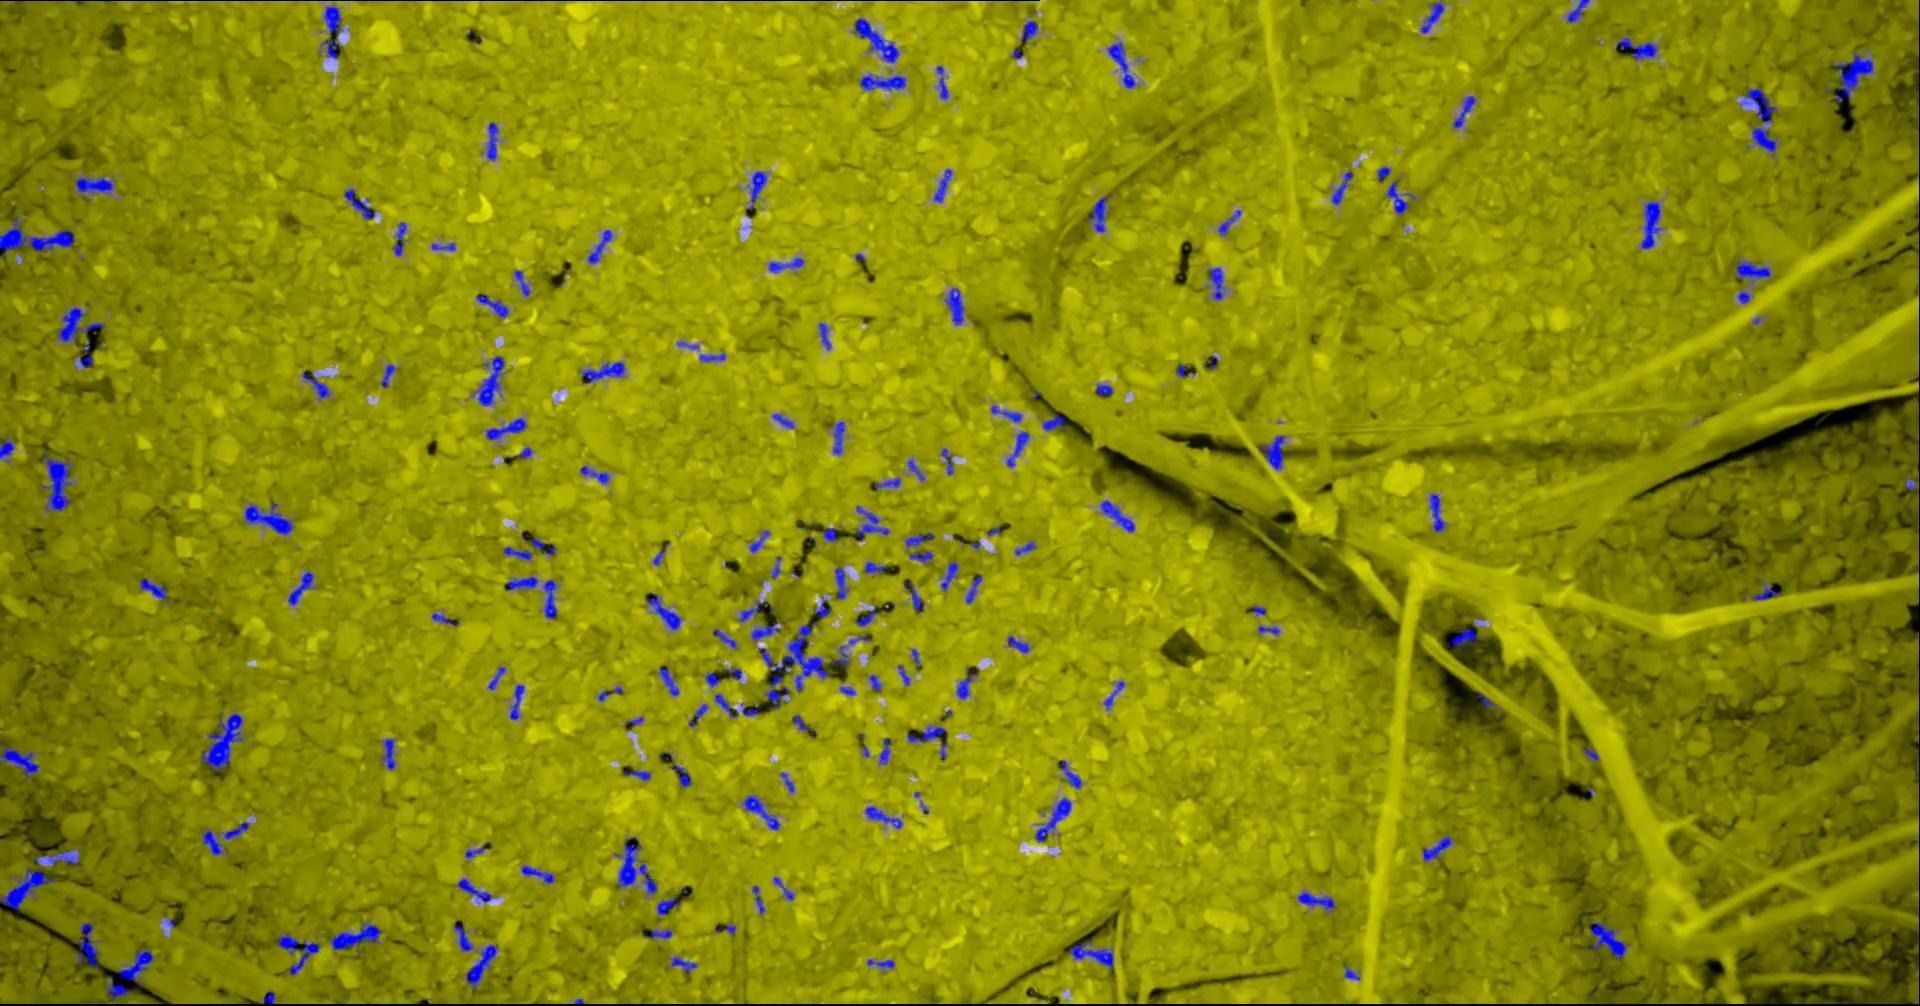ant: (0, 217, 74, 257), (0, 866, 57, 909), (615, 837, 657, 894), (39, 447, 72, 511), (852, 17, 898, 62), (1832, 52, 1873, 102), (57, 306, 104, 343), (278, 934, 319, 976), (1034, 796, 1070, 842), (472, 354, 504, 405), (243, 502, 293, 533), (1589, 921, 1627, 959), (465, 944, 497, 989), (905, 725, 947, 758), (1106, 41, 1135, 88), (1738, 86, 1777, 122), (645, 592, 681, 629), (0, 746, 39, 779), (329, 923, 380, 949), (1070, 939, 1112, 969), (743, 795, 778, 829), (855, 506, 889, 540), (117, 950, 152, 983), (1098, 500, 1134, 531), (74, 922, 98, 967), (1641, 199, 1661, 249), (323, 6, 342, 58), (343, 188, 375, 218), (582, 361, 623, 384), (1257, 434, 1285, 469), (485, 417, 526, 439), (1004, 431, 1029, 467), (1615, 37, 1656, 58), (587, 229, 612, 263), (287, 570, 312, 605), (1418, 0, 1444, 33), (863, 807, 902, 828), (745, 170, 766, 210), (764, 674, 789, 708), (457, 878, 491, 901), (302, 370, 330, 398), (858, 74, 905, 90), (1445, 621, 1476, 647), (36, 848, 79, 866), (1451, 95, 1476, 127), (476, 293, 508, 318), (74, 175, 113, 194), (1751, 126, 1777, 155), (1422, 835, 1451, 860), (138, 578, 169, 602), (1297, 890, 1335, 909), (1735, 260, 1770, 281), (1331, 171, 1352, 205), (1385, 180, 1407, 213), (943, 287, 963, 324), (1087, 196, 1106, 231), (201, 829, 227, 855), (1057, 760, 1081, 788), (738, 600, 768, 621), (1429, 493, 1445, 532), (904, 579, 923, 612), (521, 864, 554, 883), (1217, 210, 1241, 235), (933, 168, 951, 202), (453, 920, 472, 951), (1750, 580, 1780, 600), (955, 672, 977, 699), (750, 621, 778, 641), (659, 666, 678, 695), (542, 579, 556, 619), (579, 465, 610, 483), (509, 683, 524, 719), (1103, 680, 1123, 708), (1208, 267, 1224, 298), (768, 257, 803, 272), (714, 694, 737, 716), (530, 536, 556, 555), (222, 821, 249, 840), (990, 405, 1021, 422), (940, 561, 957, 589), (1566, 0, 1589, 22), (748, 530, 770, 553), (105, 978, 128, 1000), (712, 627, 737, 648), (772, 876, 792, 901), (935, 65, 949, 99), (856, 605, 877, 626), (380, 738, 395, 768), (965, 575, 982, 603), (688, 702, 707, 727), (672, 762, 690, 788), (834, 567, 848, 598), (505, 575, 537, 589), (486, 122, 498, 160), (657, 895, 679, 915), (392, 222, 405, 255), (832, 420, 844, 453), (77, 339, 91, 368), (1020, 20, 1037, 43), (907, 457, 924, 480), (830, 645, 848, 668), (488, 666, 505, 688), (597, 686, 623, 701), (513, 271, 530, 295), (463, 841, 488, 857), (905, 532, 933, 546), (430, 612, 458, 626), (750, 885, 764, 913), (670, 956, 696, 972), (1007, 635, 1029, 653), (1043, 414, 1065, 431), (503, 546, 531, 559), (380, 363, 395, 386), (771, 413, 794, 428), (1476, 694, 1498, 709), (818, 323, 830, 349), (940, 447, 952, 474), (813, 600, 830, 619), (877, 737, 890, 763), (0, 436, 14, 459), (622, 768, 650, 780), (1903, 470, 1919, 490), (255, 989, 276, 1005), (1015, 541, 1035, 555), (780, 772, 794, 793), (822, 527, 841, 541), (909, 550, 932, 561), (875, 478, 900, 488), (897, 664, 909, 685), (792, 714, 808, 730), (866, 959, 894, 968), (714, 923, 735, 935), (703, 672, 719, 687), (645, 929, 670, 937), (771, 556, 781, 578), (863, 561, 885, 572), (910, 648, 921, 669), (1377, 166, 1390, 182), (1343, 967, 1359, 981), (1176, 365, 1192, 377), (698, 353, 725, 361), (1095, 384, 1112, 395), (869, 674, 881, 690), (1257, 625, 1279, 634), (430, 243, 455, 250), (742, 705, 759, 715), (1583, 747, 1597, 760), (1737, 291, 1750, 304), (1251, 605, 1266, 615), (1917, 91, 1919, 147)
